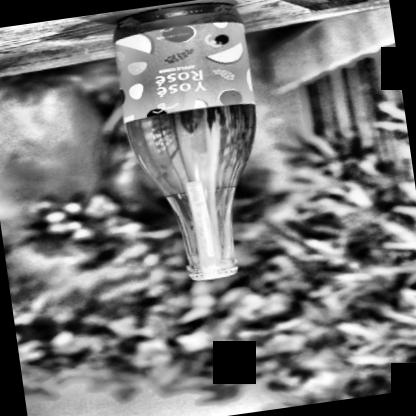yoserose: (108, 16, 254, 122)
